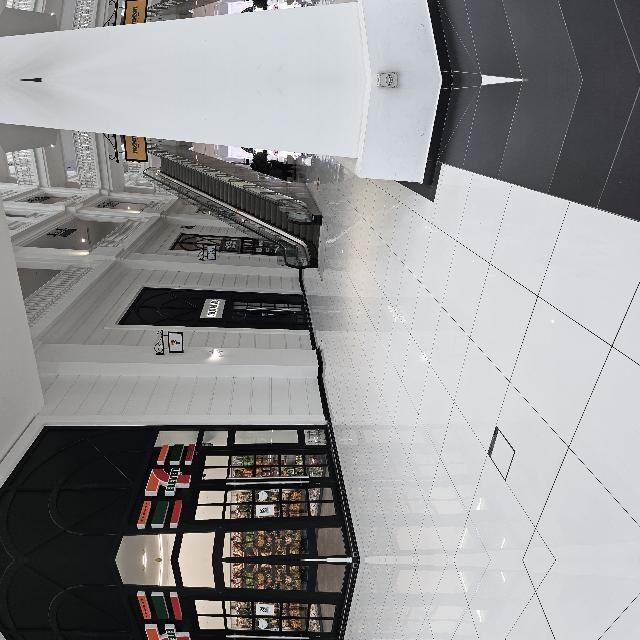door: (30, 268, 116, 414)
obstacle: (292, 336, 354, 402)
